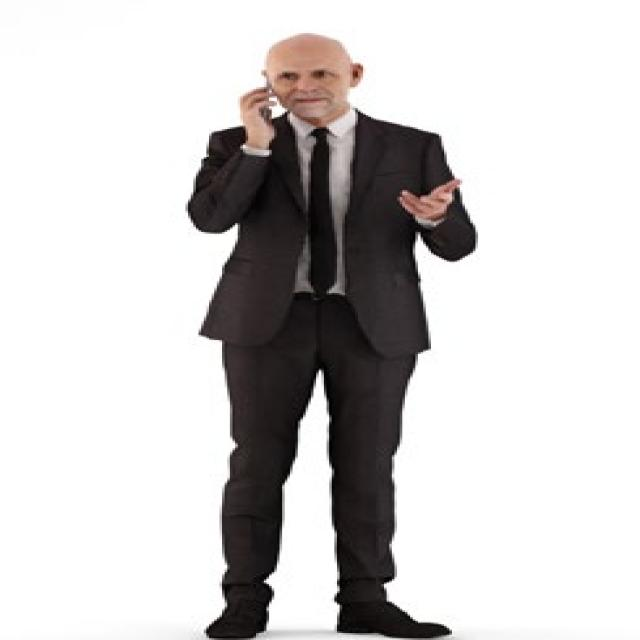standing: (177, 29, 483, 640)
